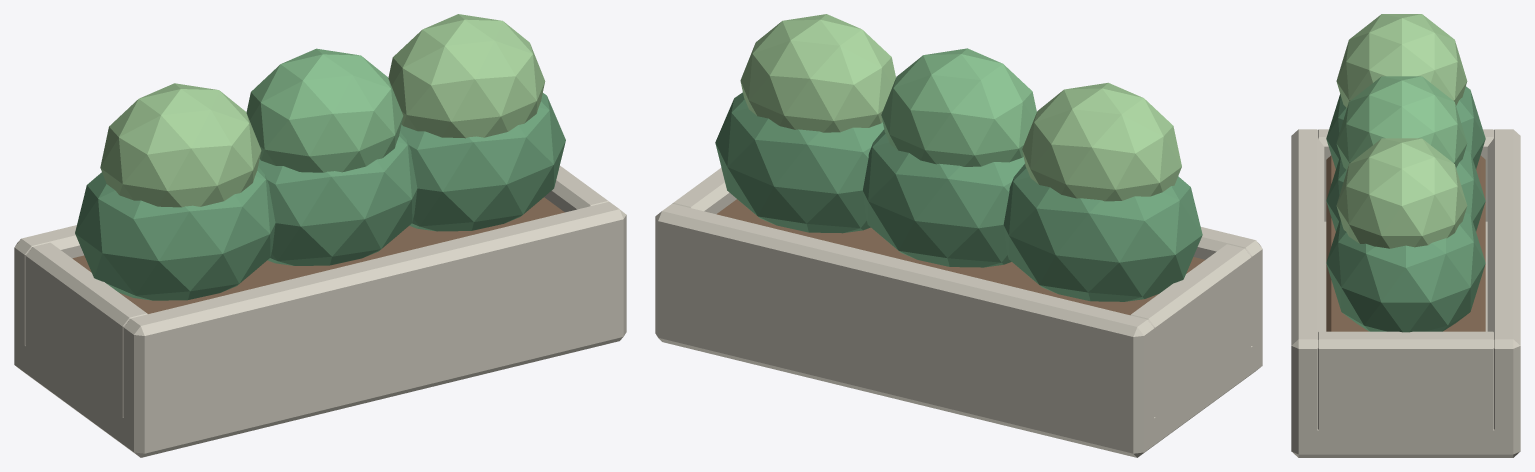
The model's file is FTF_Garden_PlanterTall_Shrubs_2_5m.glb.
The picture shows the model from 3 angles, left to right: view 1: azimuth 30°, elevation 25°; view 2: azimuth 150°, elevation 25°; view 3: azimuth 270°, elevation 25°; orthographic projection. The views are drawn at different scales.
Visible parts, largest first — view 1: StaticVisual; view 2: StaticVisual; view 3: StaticVisual.
Part boxes in pixels (left/top/right/bottom): StaticVisual: left=14, top=14, right=626, bottom=457; StaticVisual: left=655, top=14, right=1262, bottom=457; StaticVisual: left=1291, top=14, right=1520, bottom=457.
Bounding box in the file's own units: 2.5 × 1.47 × 1.12.
